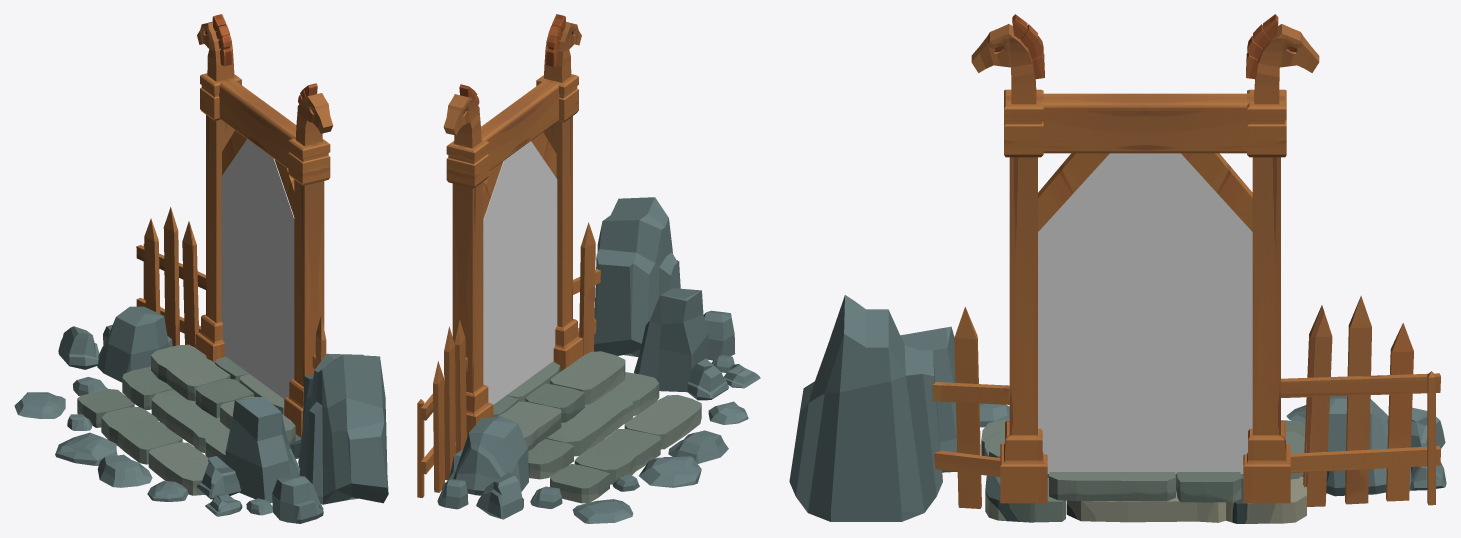
Rendered from Portal.fbx.
3 renders of one model, left to right at view 1: azimuth 30°, elevation 25°; view 2: azimuth 150°, elevation 25°; view 3: azimuth 270°, elevation 25°, orthographic. The views are drawn at different scales.
Visible parts, largest first — view 1: 1_portal, 2_portal_entry; view 2: 1_portal, 2_portal_entry; view 3: 1_portal, 2_portal_entry.
Part boxes in pixels (left/top/right/bottom): 1_portal: left=14, top=14, right=388, bottom=523; 2_portal_entry: left=221, top=139, right=294, bottom=398; 1_portal: left=417, top=14, right=760, bottom=523; 2_portal_entry: left=483, top=141, right=557, bottom=404; 1_portal: left=789, top=14, right=1446, bottom=523; 2_portal_entry: left=1038, top=153, right=1252, bottom=473.
Size of the model in its own units: 225 by 378 by 438.
